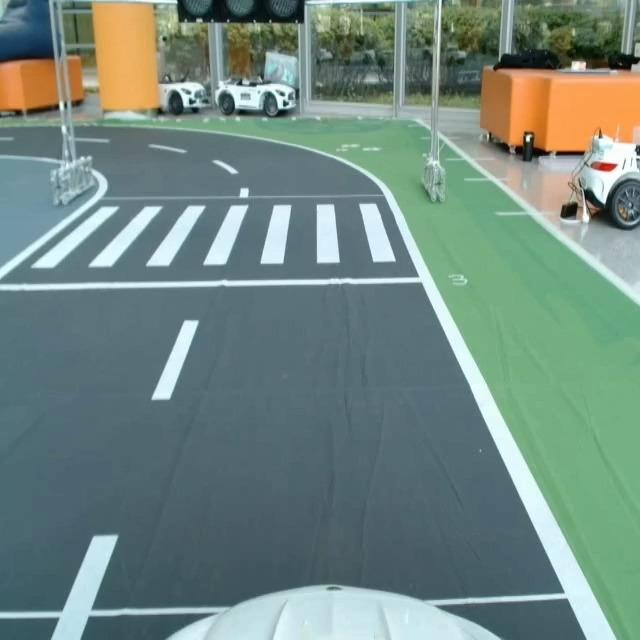traffic-light: (173, 0, 309, 27)
